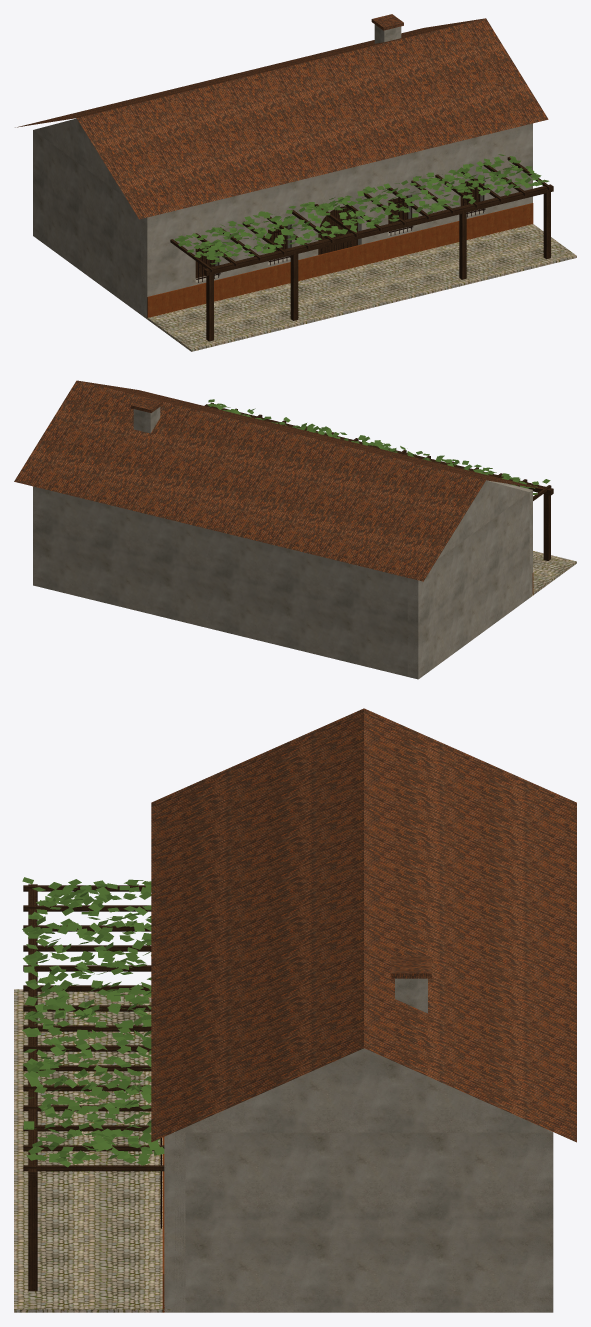
Rendered from cortijo.glb.
3 renders of one model, top to bottom at view 1: azimuth 30°, elevation 25°; view 2: azimuth 150°, elevation 25°; view 3: azimuth 270°, elevation 25°, orthographic. The views are drawn at different scales.
Size of the model in its own units: 17 by 6.71 by 11.9.
7 materials, 6 textured.
